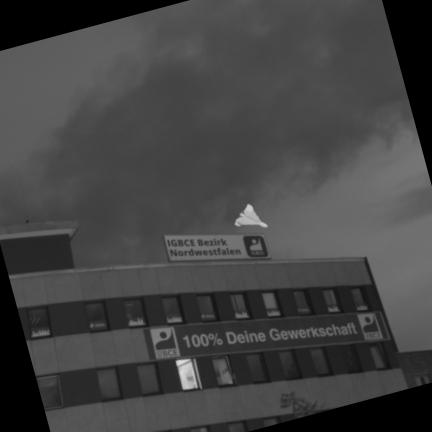Shahed: (234, 203, 267, 225)
